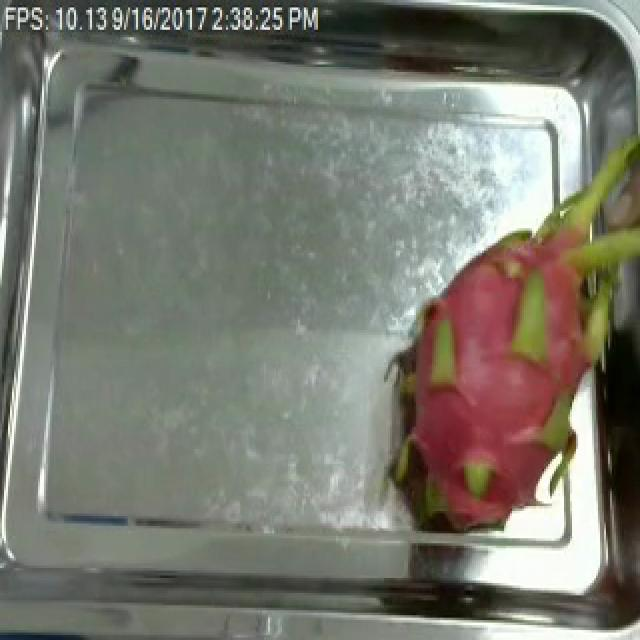fruit: (352, 174, 640, 560)
